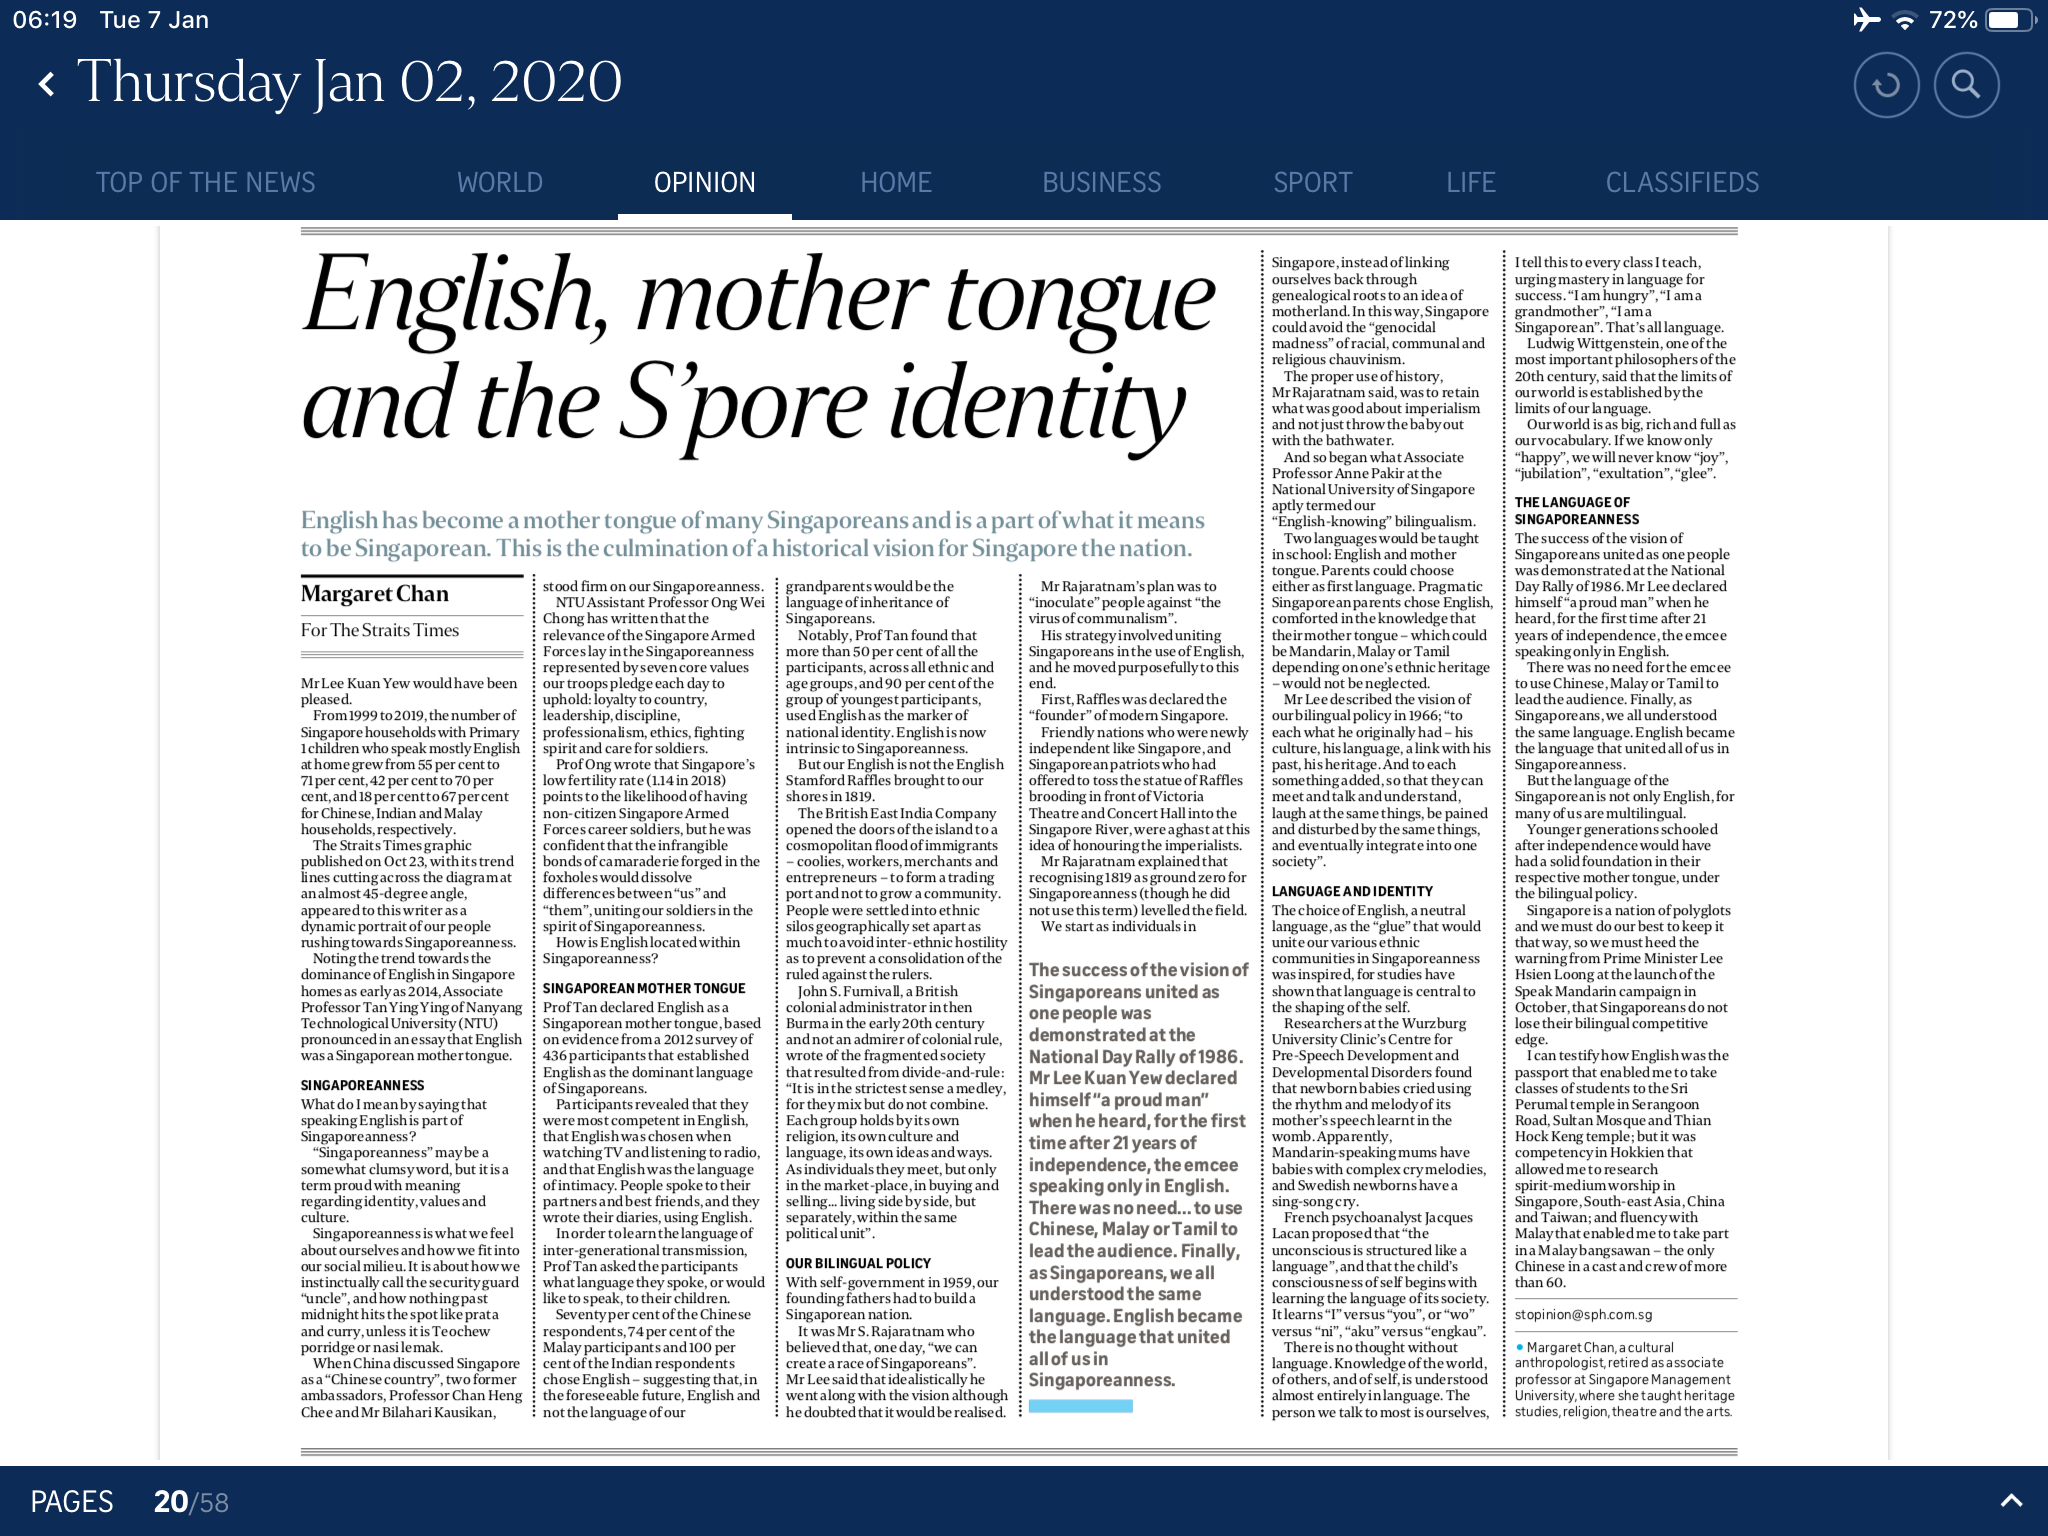Byline: (298, 581, 461, 644)
Headline: (295, 244, 1234, 466), (1509, 490, 1646, 532), (1268, 874, 1442, 904), (540, 975, 755, 995), (297, 1070, 432, 1099), (777, 1249, 939, 1273)
Illustration: (1511, 1329, 1742, 1425)
Text: (1508, 529, 1742, 1297), (780, 574, 1013, 1249), (1272, 247, 1496, 874), (1271, 897, 1498, 1434), (1026, 950, 1255, 1397), (537, 999, 768, 1430), (295, 670, 527, 1071), (540, 574, 764, 971), (1022, 574, 1258, 937), (295, 1092, 534, 1434), (293, 499, 1213, 566), (1509, 247, 1750, 489), (780, 1270, 1009, 1425)
